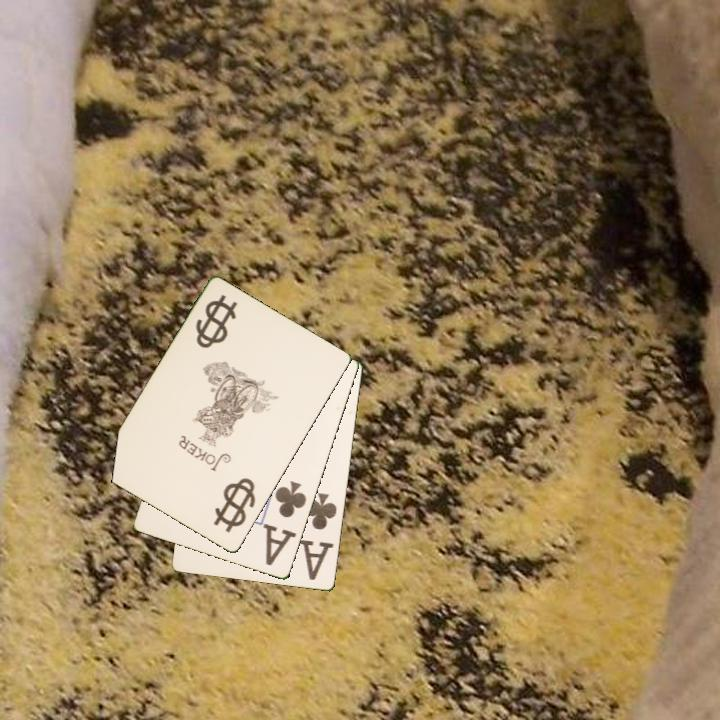Ac: (261, 477, 310, 569), (298, 489, 340, 583)
JK: (192, 291, 241, 352), (219, 479, 254, 526)
